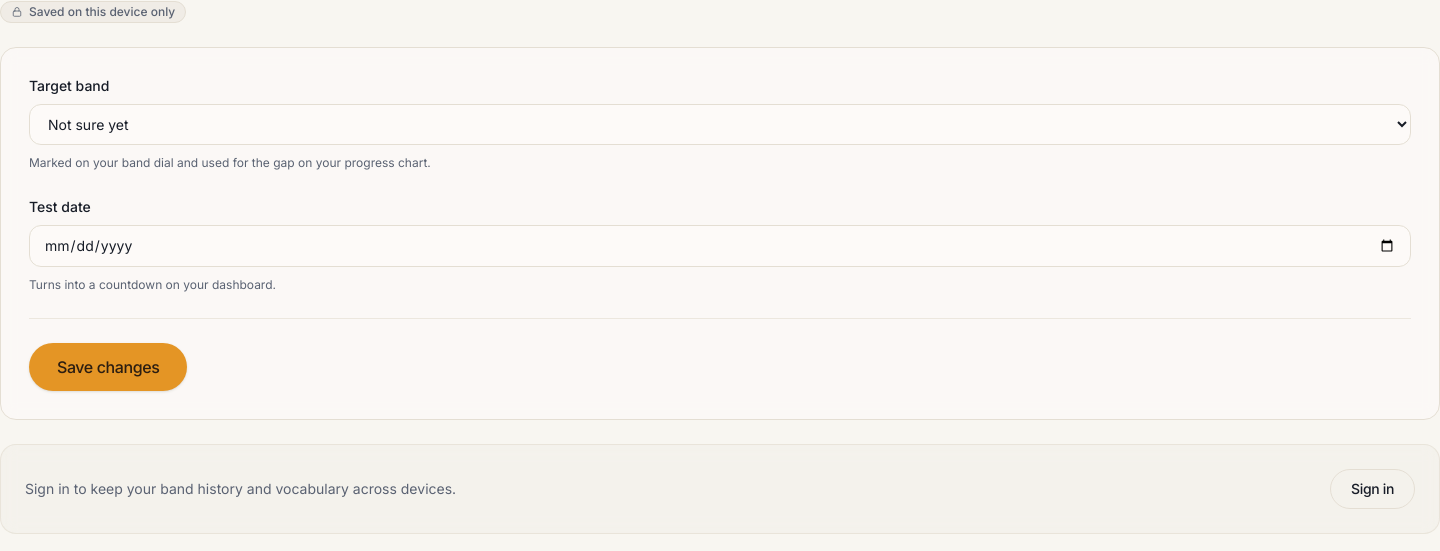
Test: AccountClient (guest) › saves edits to localStorage and confirms
Select "8.0" in the dropdown labelled "Target band" at (720, 124), box [29,104,1411,145]
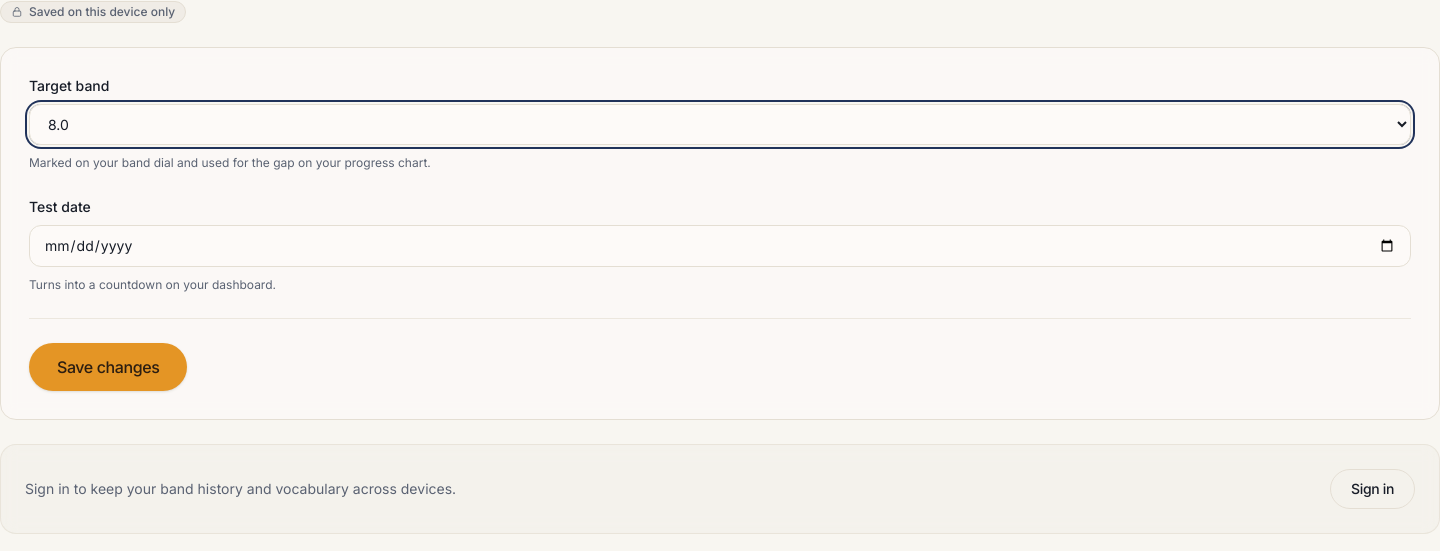
Click the button "Save changes" at (108, 367), box [29,343,187,391]
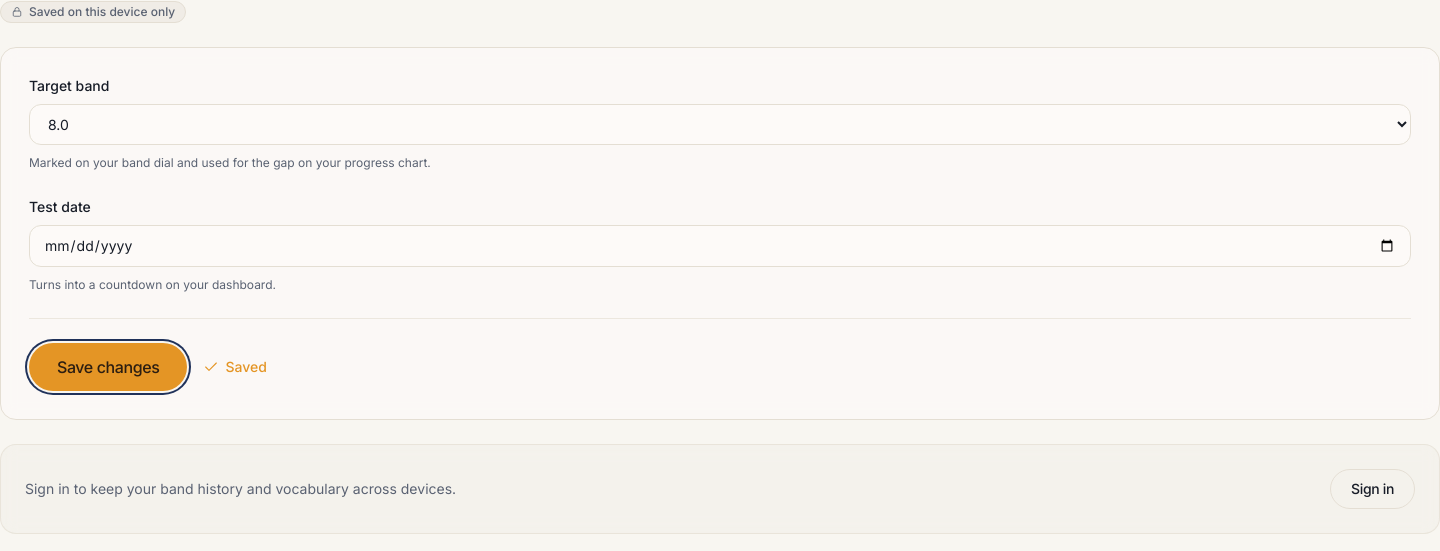
Expected: the message reads "Saved", [225,358,267,375]
